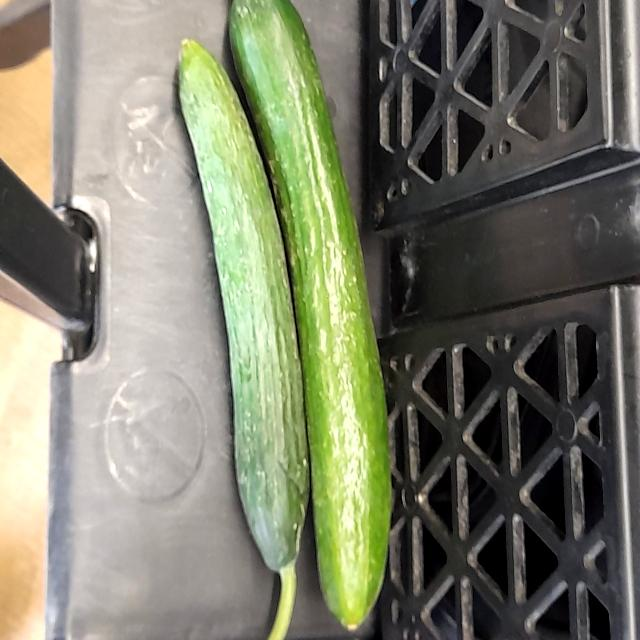cucumber: (230, 1, 396, 640), (167, 33, 312, 630)
